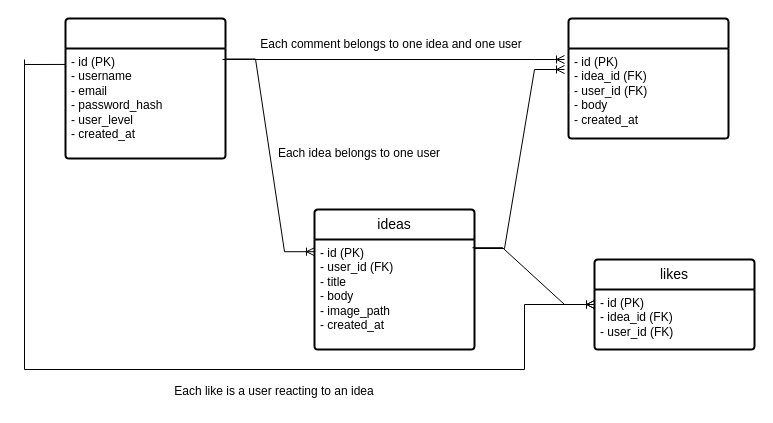
Some shapes in this 773 by 423 pixel diagram are drawn without their labels. Here are the shapes that lost their labels. From the top down, the box of each, then its label:
(64, 17, 226, 159): users
(567, 17, 729, 139): comments
